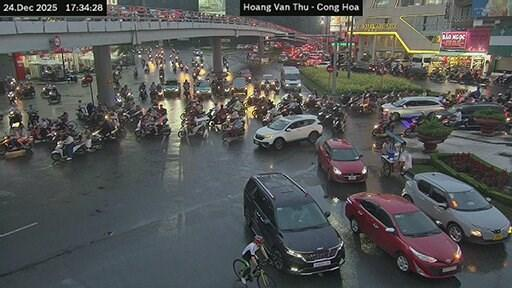motorbike: (134, 117, 169, 135), (0, 135, 31, 154), (178, 117, 208, 136), (371, 118, 393, 135), (118, 108, 141, 122), (221, 126, 243, 139), (51, 140, 64, 161), (15, 85, 35, 98), (7, 109, 21, 126), (332, 115, 345, 133), (252, 104, 266, 118), (70, 140, 84, 153), (28, 111, 38, 127), (48, 90, 60, 103), (76, 107, 88, 120), (41, 85, 50, 97), (66, 72, 76, 81), (7, 91, 14, 103), (138, 90, 147, 99), (80, 76, 88, 85), (184, 86, 189, 97), (150, 90, 156, 99), (144, 66, 149, 72), (133, 70, 137, 77)
